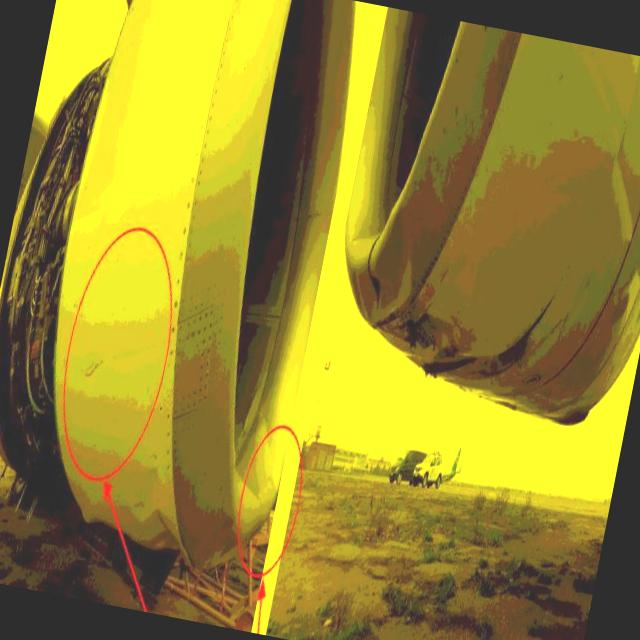crack: (74, 344, 110, 394)
dent: (126, 494, 196, 586)
